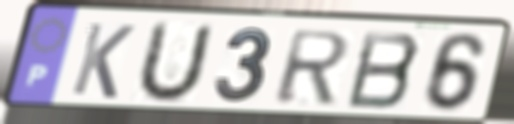3: (212, 25, 275, 107)
6: (420, 31, 489, 117)
B: (343, 29, 424, 112)
K: (67, 20, 139, 102)
R: (271, 28, 354, 107)
U: (131, 19, 218, 107)
